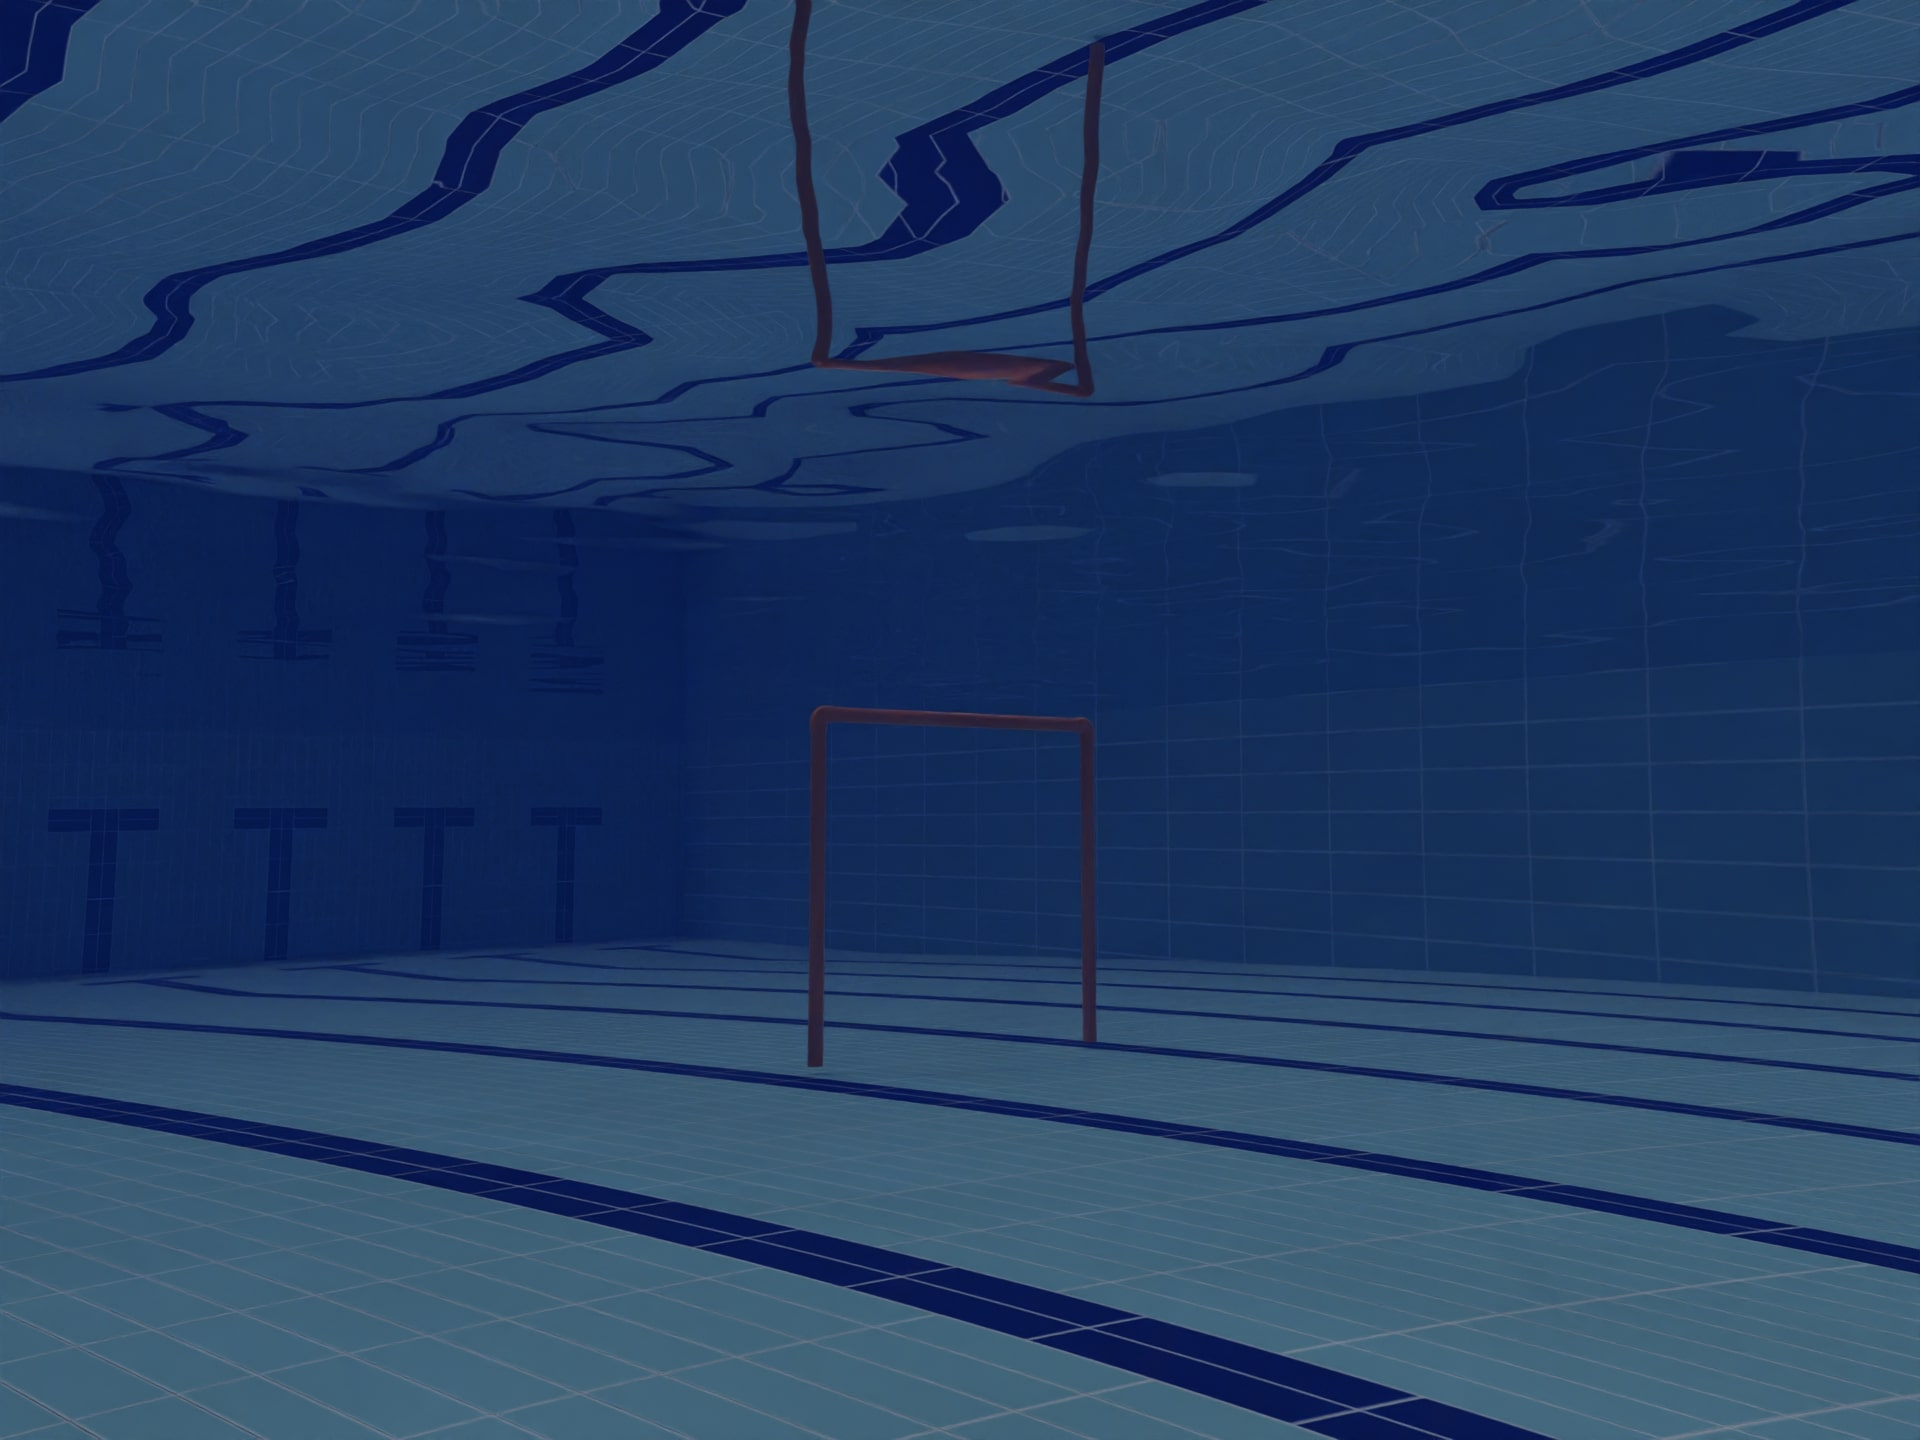gate: (791, 673, 1126, 1069)
